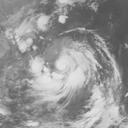cyclone: (43, 43, 96, 91)
